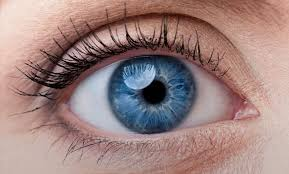pupil: (107, 55, 196, 132)
